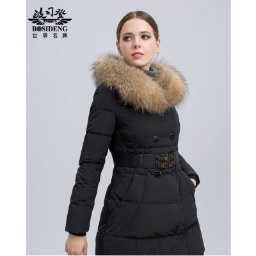face: (113, 10, 163, 67)
